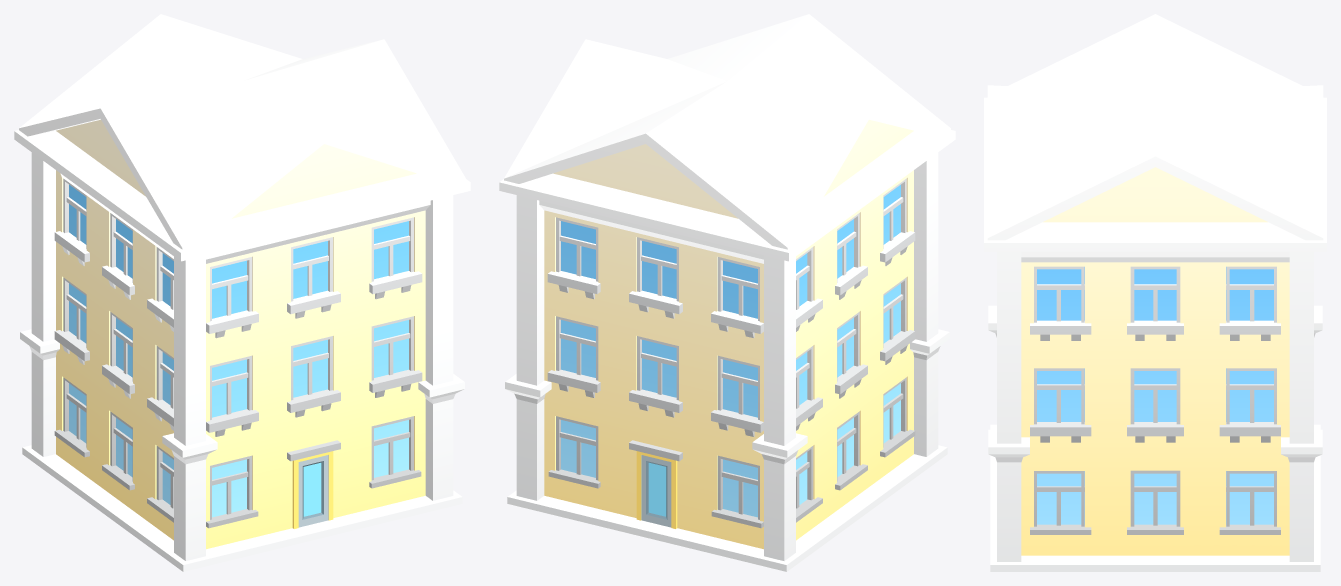
Rendered from Building_State_02.glb.
3 renders of one model, left to right at view 1: azimuth 30°, elevation 25°; view 2: azimuth 150°, elevation 25°; view 3: azimuth 270°, elevation 25°, orthographic. The views are drawn at different scales.
Parts seen in each view (by area): view 1: Building_State_02; view 2: Building_State_02; view 3: Building_State_02.
Part boxes in pixels (bbox=[...]): Building_State_02: bbox=[14, 14, 470, 571]; Building_State_02: bbox=[499, 14, 955, 571]; Building_State_02: bbox=[984, 14, 1326, 571].
Size of the model in its own units: 9.9 by 13.23 by 9.87.
Materials: 1 (1 with a texture image).
